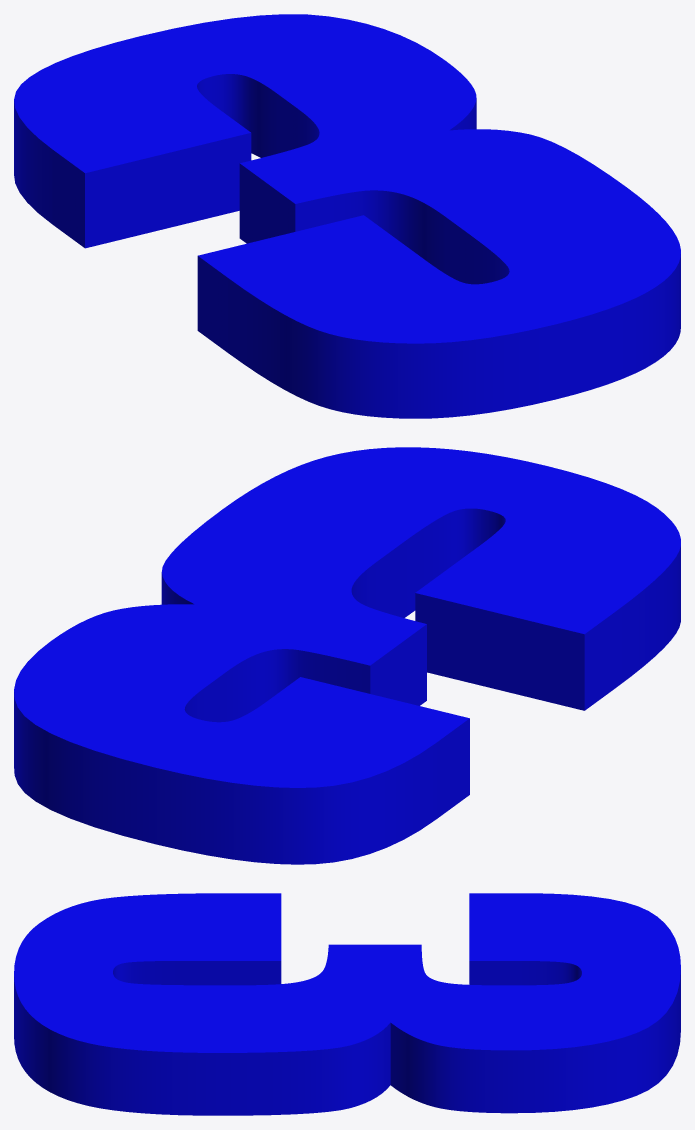
Rendered from Three.FBX.
3 renders of one model, top to bottom at view 1: azimuth 30°, elevation 25°; view 2: azimuth 150°, elevation 25°; view 3: azimuth 270°, elevation 25°, orthographic. The views are drawn at different scales.
Parts seen in each view (by area): view 1: Text001; view 2: Text001; view 3: Text001.
Part boxes in pixels (bbox=[...]): Text001: bbox=[14, 14, 680, 418]; Text001: bbox=[14, 447, 680, 864]; Text001: bbox=[14, 893, 680, 1115].
Bounding box in the file's own units: 38.2 × 7 × 67.4.
